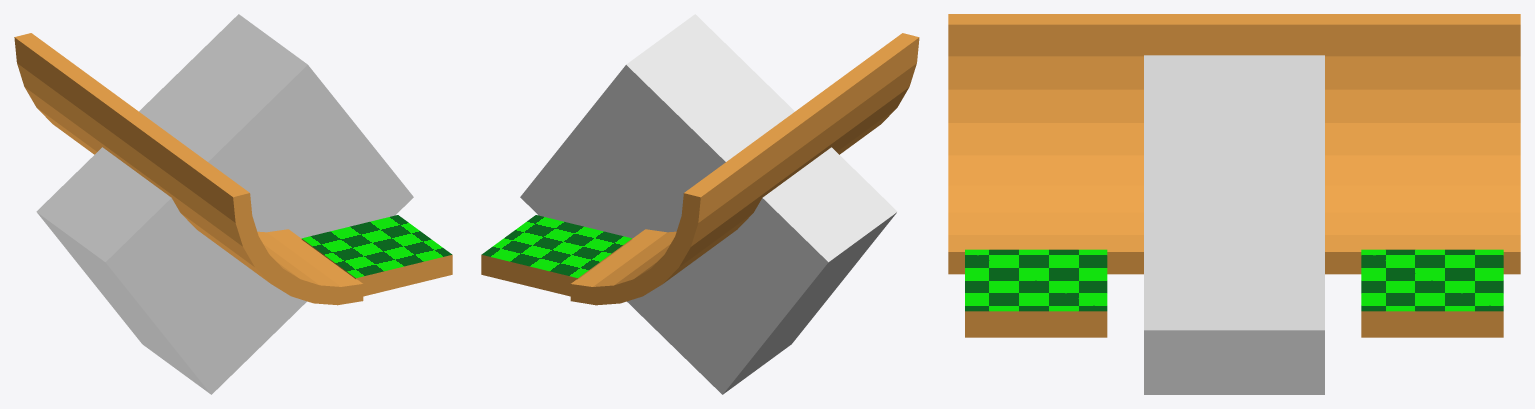
Rendered from wallrun.glb.
The picture shows the model from 3 angles, left to right: view 1: azimuth 30°, elevation 25°; view 2: azimuth 150°, elevation 25°; view 3: azimuth 270°, elevation 25°; orthographic projection. The views are drawn at different scales.
Parts seen in each view (by area): view 1: Cube.002, Cylinder, Cube; view 2: Cube.002, Cylinder, Cube.001; view 3: Cylinder, Cube.002, Cube.001, Cube.
Part boxes in pixels (bbox=[...]): Cube.002: bbox=[36, 14, 413, 394]; Cylinder: bbox=[14, 33, 363, 305]; Cube: bbox=[301, 215, 452, 296]; Cube.002: bbox=[520, 14, 897, 394]; Cylinder: bbox=[570, 33, 919, 305]; Cube.001: bbox=[481, 215, 632, 296]; Cylinder: bbox=[948, 14, 1520, 274]; Cube.002: bbox=[1144, 55, 1324, 394]; Cube.001: bbox=[1361, 249, 1503, 337]; Cube: bbox=[965, 249, 1107, 337].
Size of the model in its own units: 38.62 by 36.71 by 47.42.
Materials: 2 (2 with a texture image).
